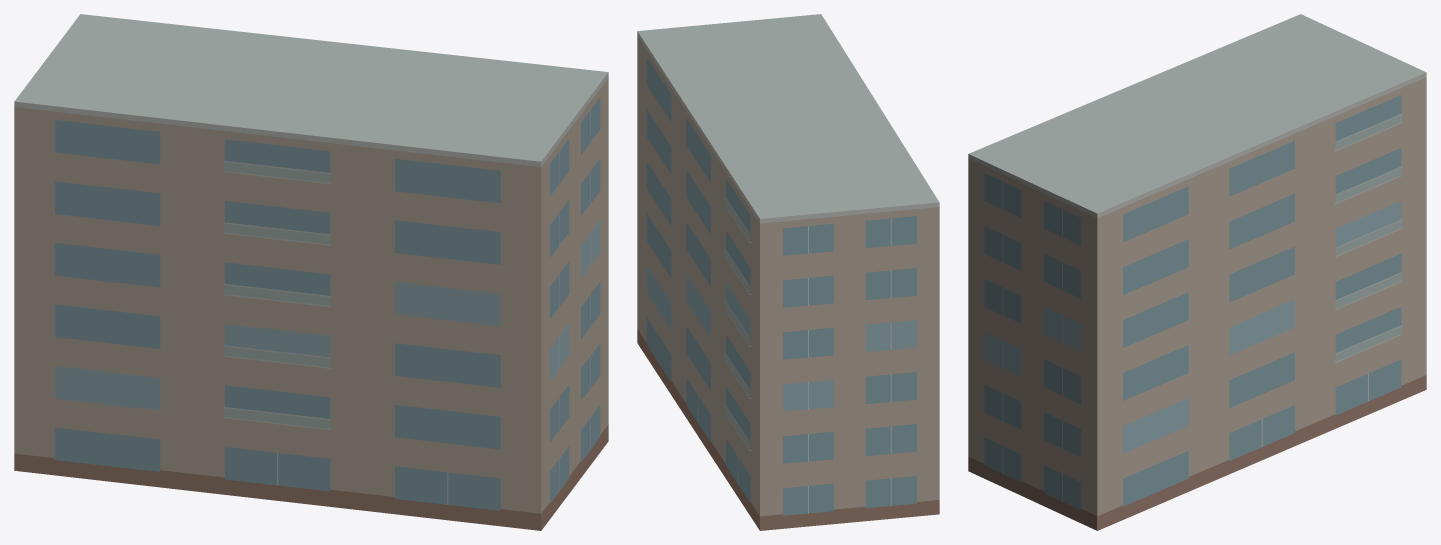
Rendered from survey-upis-32583373.glb.
The picture shows the model from 3 angles, left to right: view 1: azimuth 30°, elevation 25°; view 2: azimuth 150°, elevation 25°; view 3: azimuth 270°, elevation 25°; orthographic projection. The views are drawn at different scales.
Visible parts, largest first — view 1: survey-upis-32583373.tmp; view 2: survey-upis-32583373.tmp; view 3: survey-upis-32583373.tmp.
Part boxes in pixels (<box>): survey-upis-32583373.tmp: <box>14,14,608,530</box>; survey-upis-32583373.tmp: <box>637,14,939,530</box>; survey-upis-32583373.tmp: <box>968,14,1426,530</box>.
Bounding box in the file's own units: 22.61 × 16.75 × 21.94.
